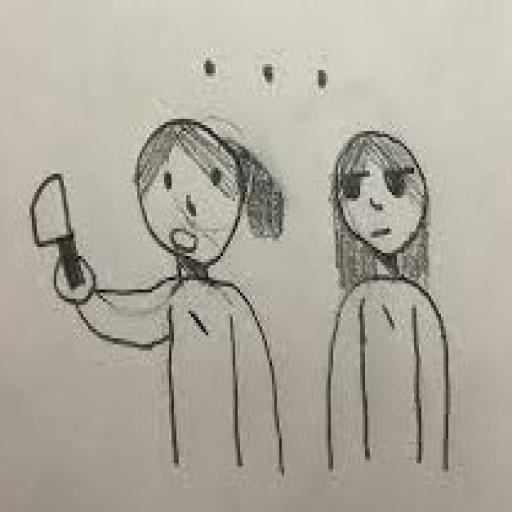person: (33, 114, 286, 494), (322, 120, 452, 486)
